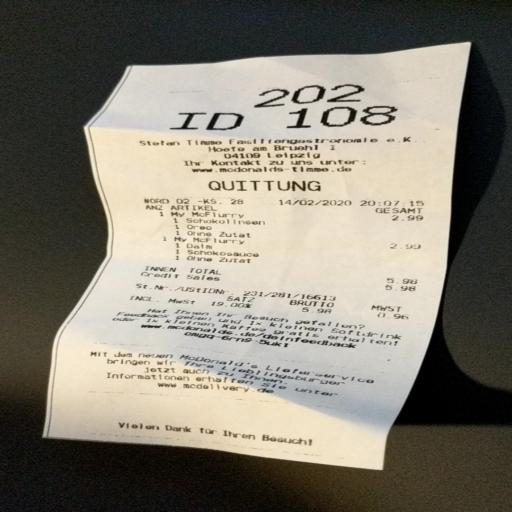paper: (25, 24, 498, 502)
